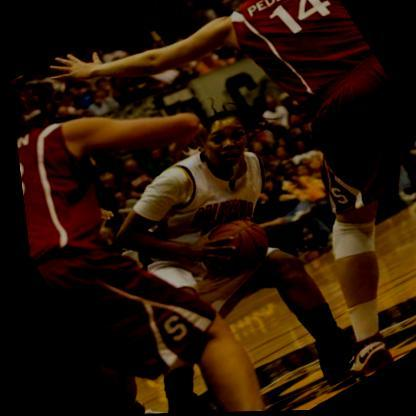basketball: (177, 206, 274, 290)
